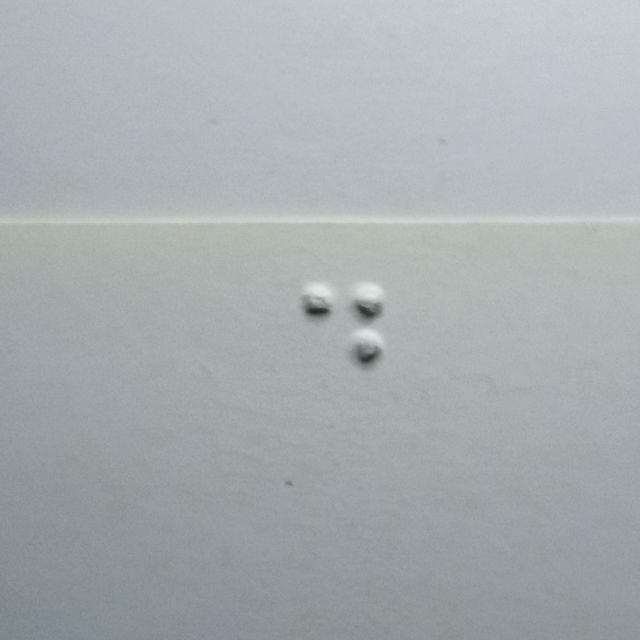dahil: (299, 282, 388, 418)
